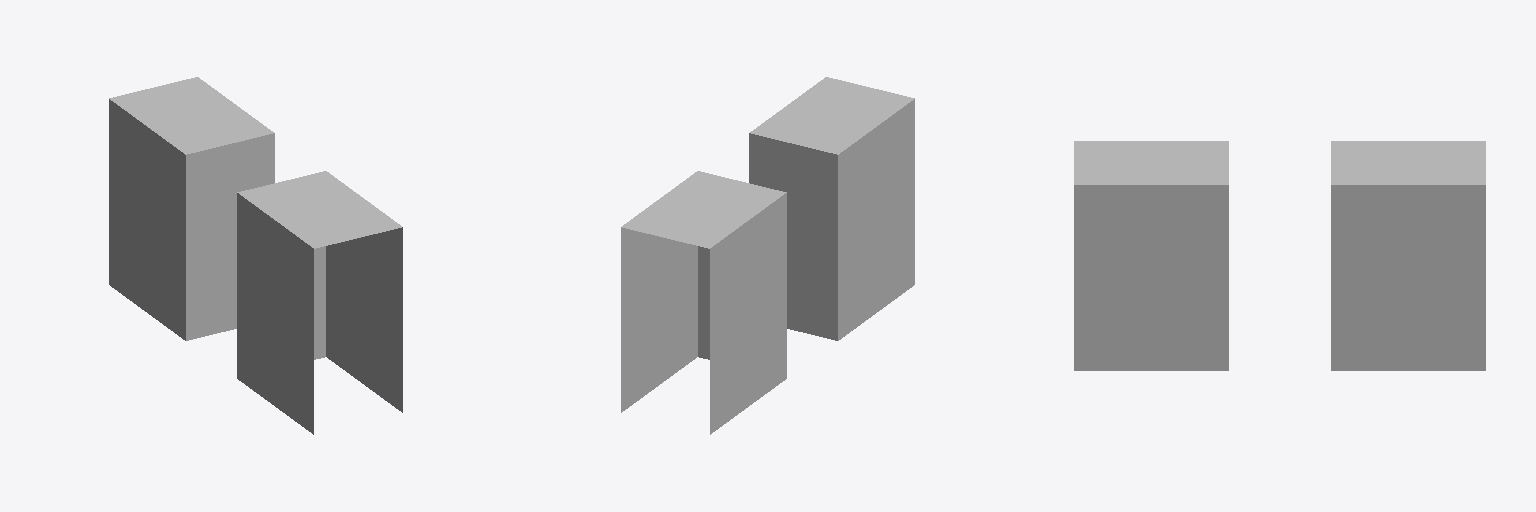
File: Straight_Open1.obj
3 renders of one model, left to right at view 1: azimuth 30°, elevation 25°; view 2: azimuth 150°, elevation 25°; view 3: azimuth 270°, elevation 25°, orthographic.
Visible parts, largest first — view 1: Cube.001, Cube.002; view 2: Cube.001, Cube.002; view 3: Cube.001, Cube.002.
Boxes of the visible parts, x1=… form: Cube.001: x1=109, y1=99, x2=402, y2=434; Cube.002: x1=109, y1=77, x2=401, y2=248; Cube.001: x1=621, y1=99, x2=914, y2=434; Cube.002: x1=622, y1=77, x2=914, y2=248; Cube.001: x1=1074, y1=185, x2=1485, y2=370; Cube.002: x1=1074, y1=141, x2=1485, y2=184.
Bounding box in the file's own units: 0.5 × 1 × 2.